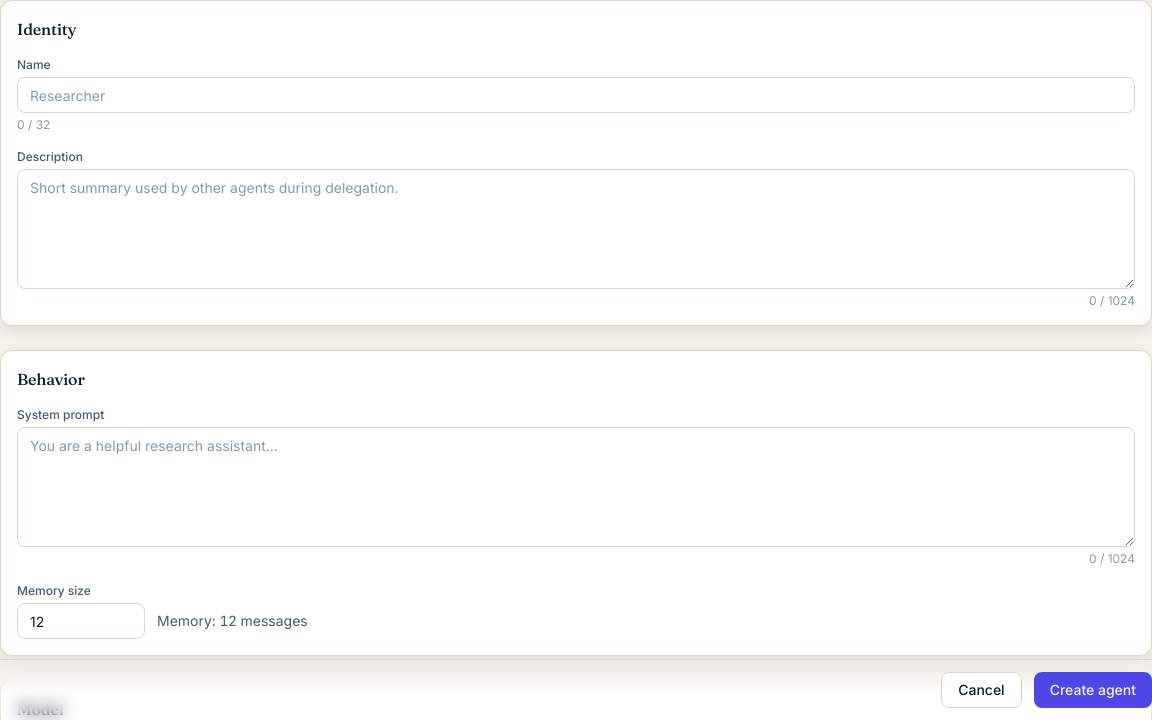
Scenario: AgentForm — create mode › 400 VALIDATION_ERROR with an unknown field shows the top-of-form fallback alert
Type "a" into the field labelled "Name". click: (576, 95)
box: [17,77,1135,113]
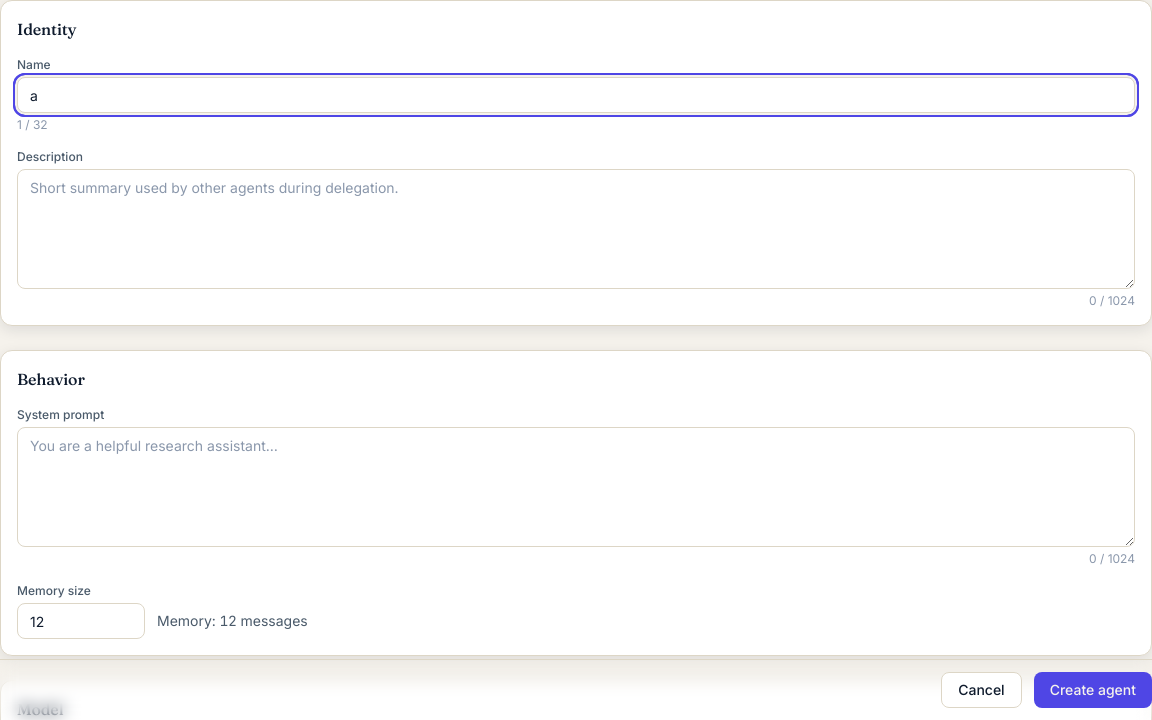
Type "d" into the text box labelled "Description". click: (576, 229)
box: [17,169,1135,289]
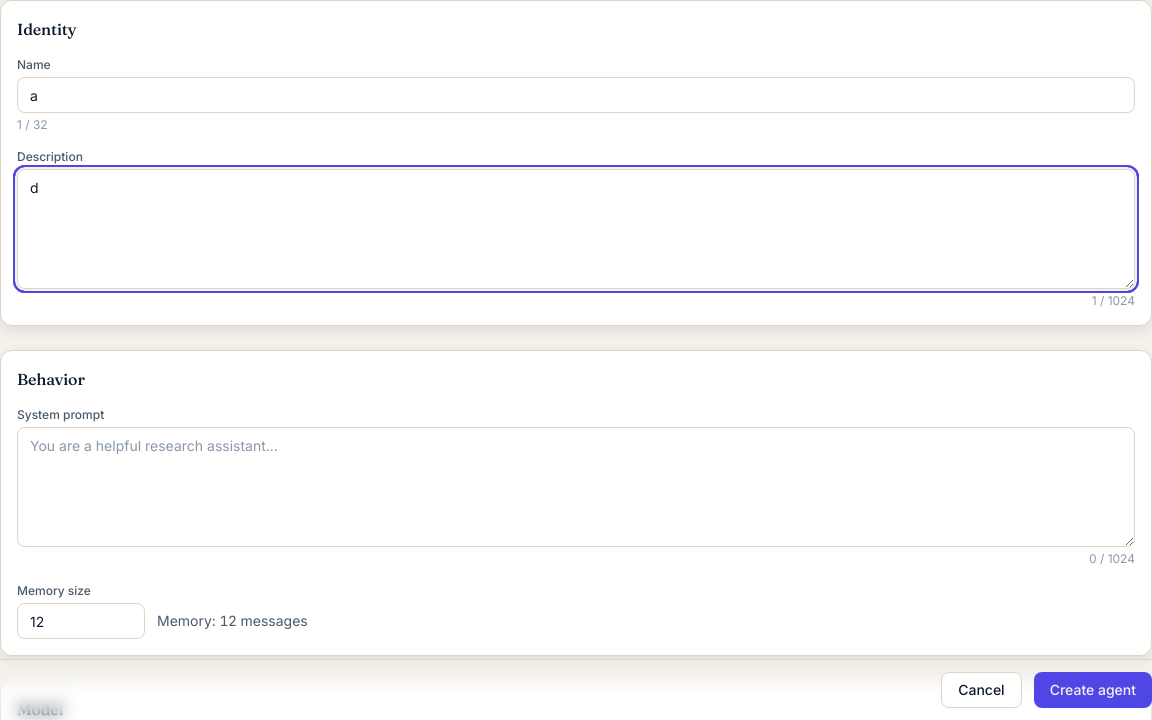
Type "s" into the text box labelled "System prompt". click: (576, 487)
box: [17,427,1135,547]
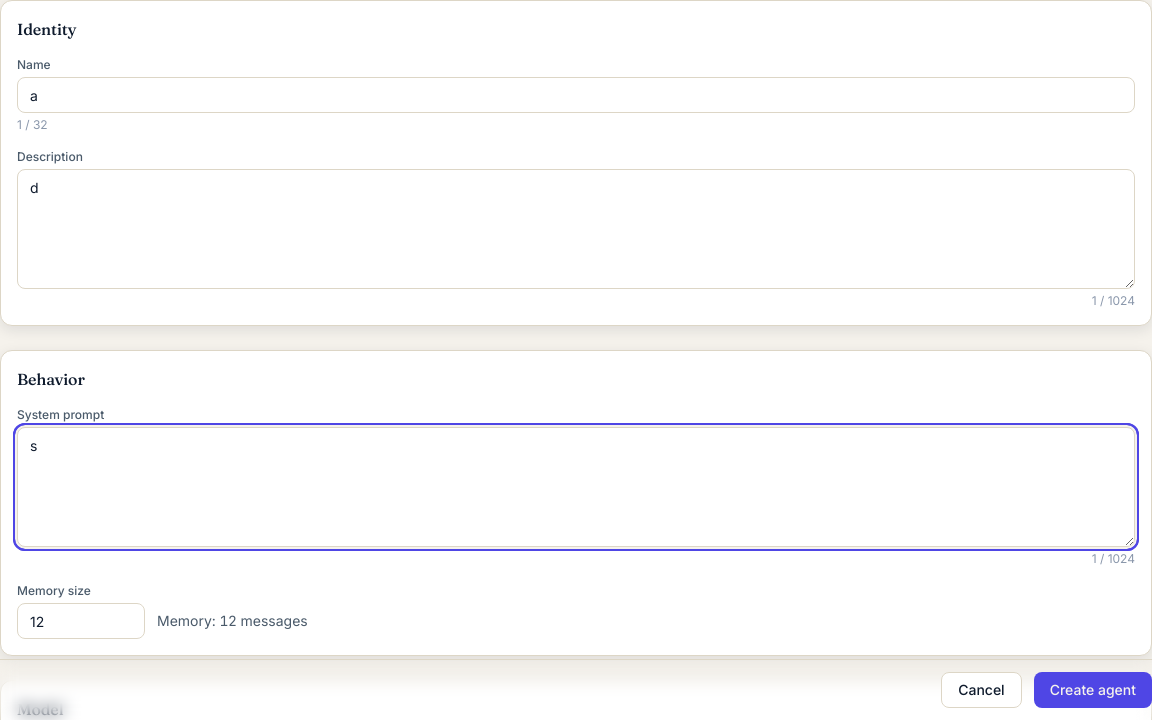
Click the button "Create agent". click: (1093, 690)
box: [1034,672,1151,708]
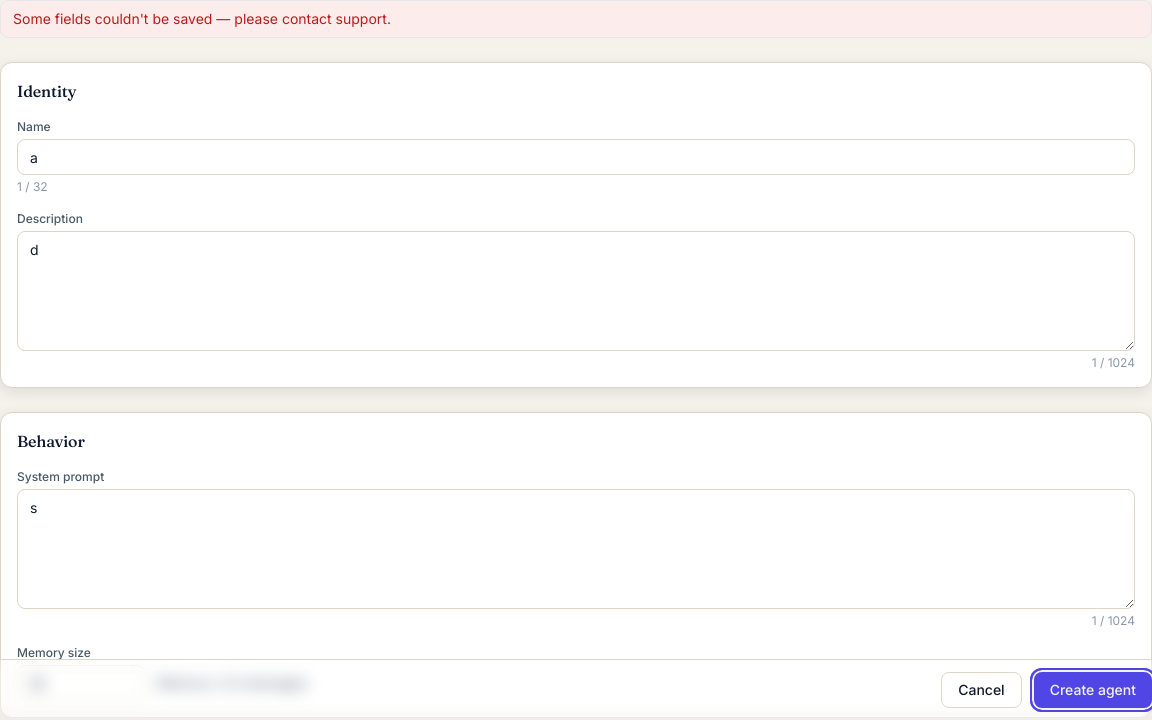
Check: the text "Some fields couldn't be saved — please contact support." is shown, box [0,0,1151,38]
